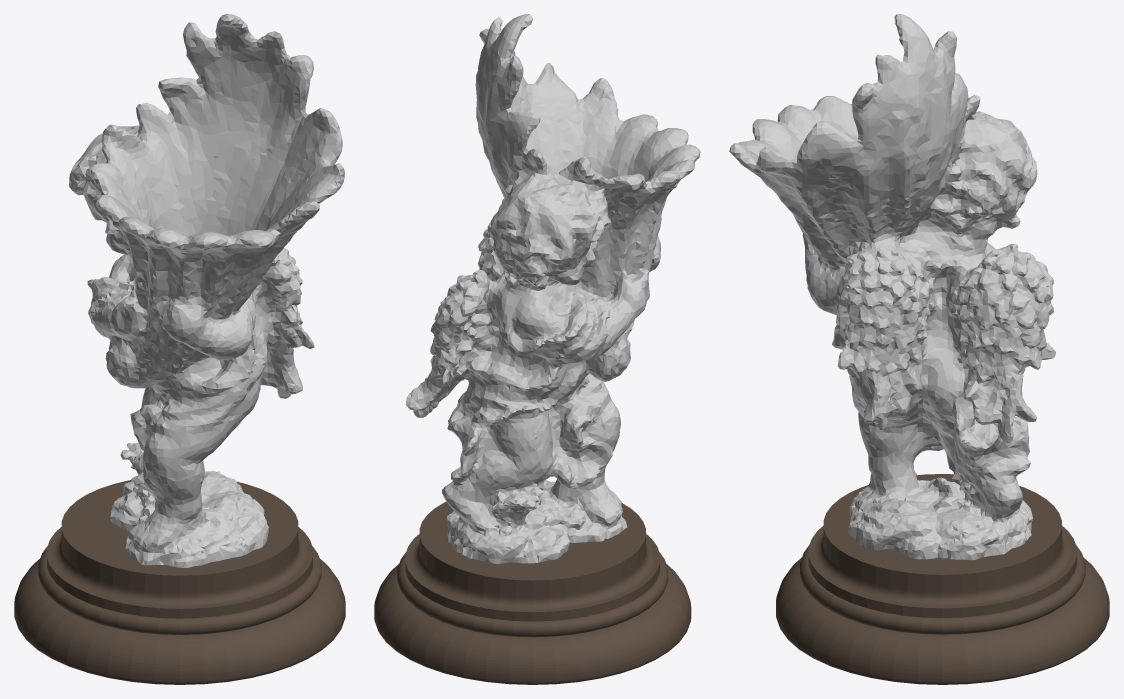
The model's file is Cherub Vase.obj.
3 renders of one model, left to right at view 1: azimuth 30°, elevation 25°; view 2: azimuth 150°, elevation 25°; view 3: azimuth 270°, elevation 25°, orthographic. The views are drawn at different scales.
Size of the model in its own units: 62.12 by 126 by 70.59.
